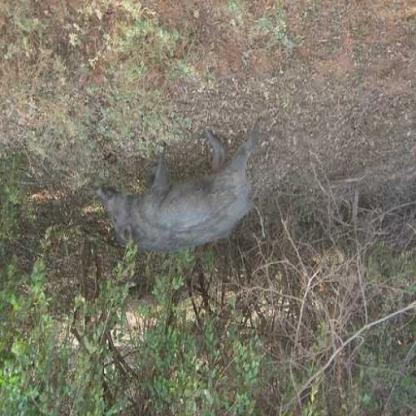boar: (89, 141, 274, 262)
